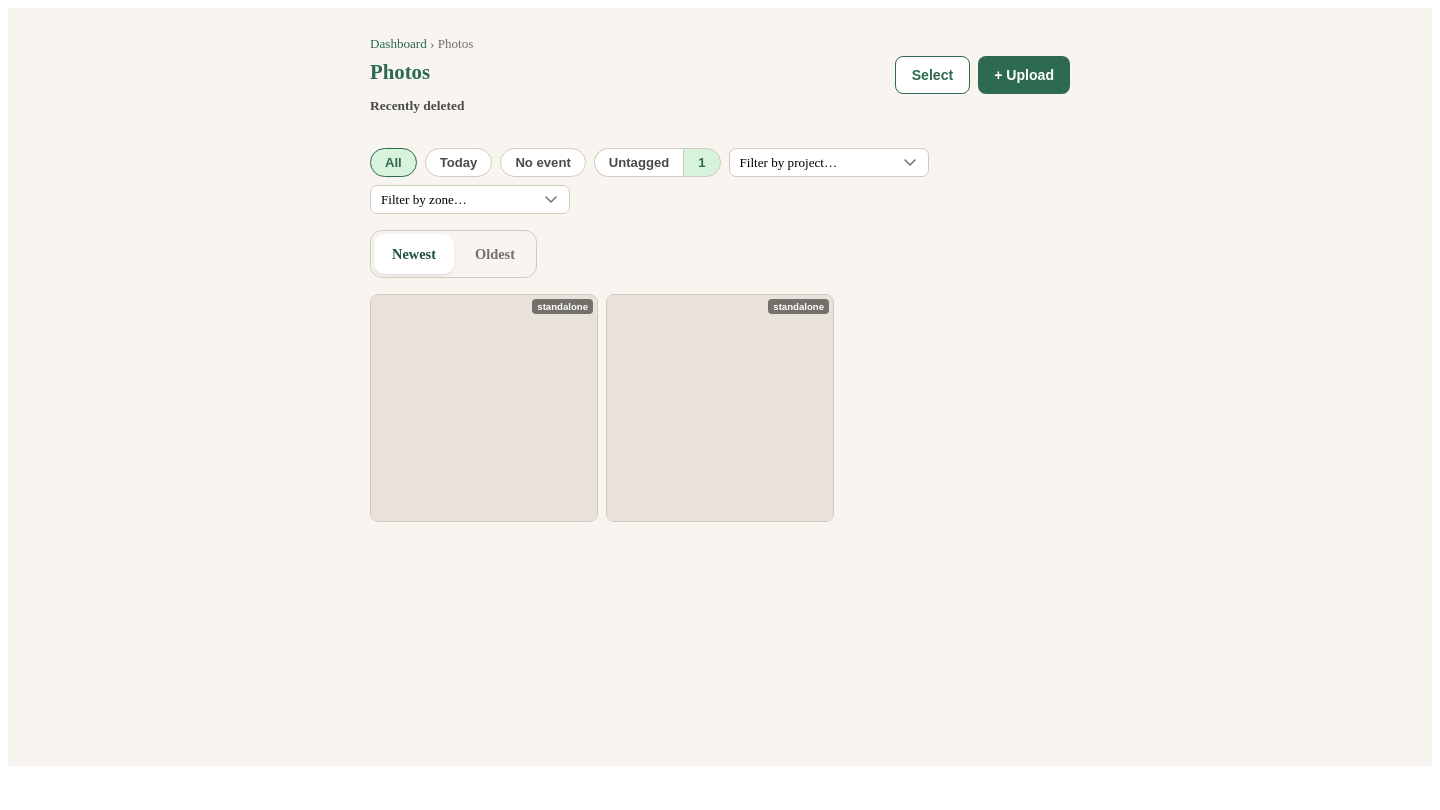
PhotoLibrary — the Untagged count › the count and the filter use the SAME predicate, so they cannot drift
The image size is (1440, 810).
Click the button with test id "pl-filter-untagged" at (639, 162), box [594,148,683,177]
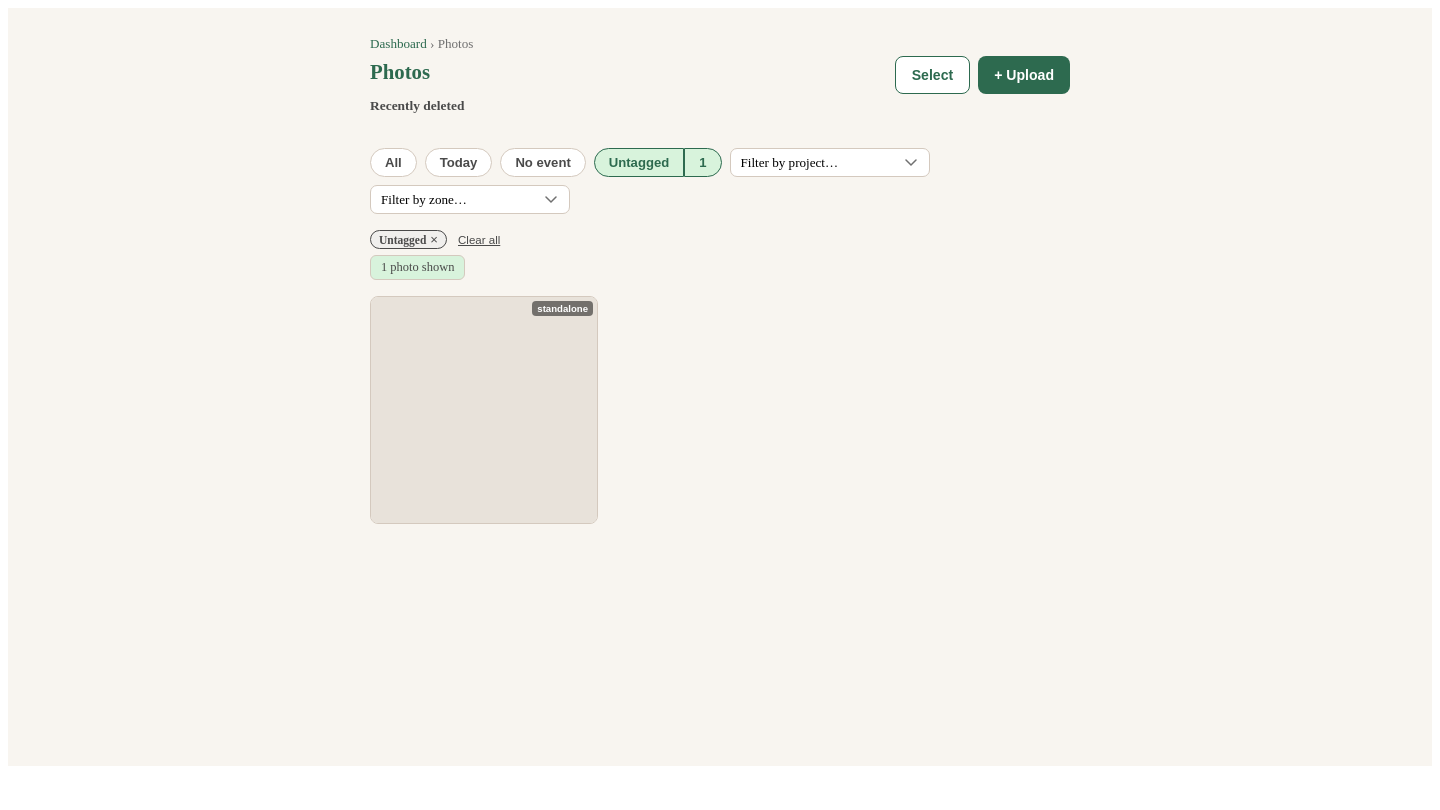
Expected: the number of buttons with test id "pl-photo-card" is 1, [370,296,598,524]
